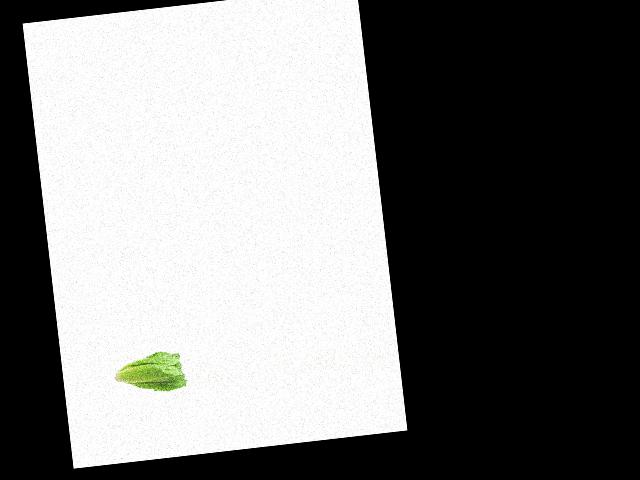lettuce: (111, 346, 188, 400)
